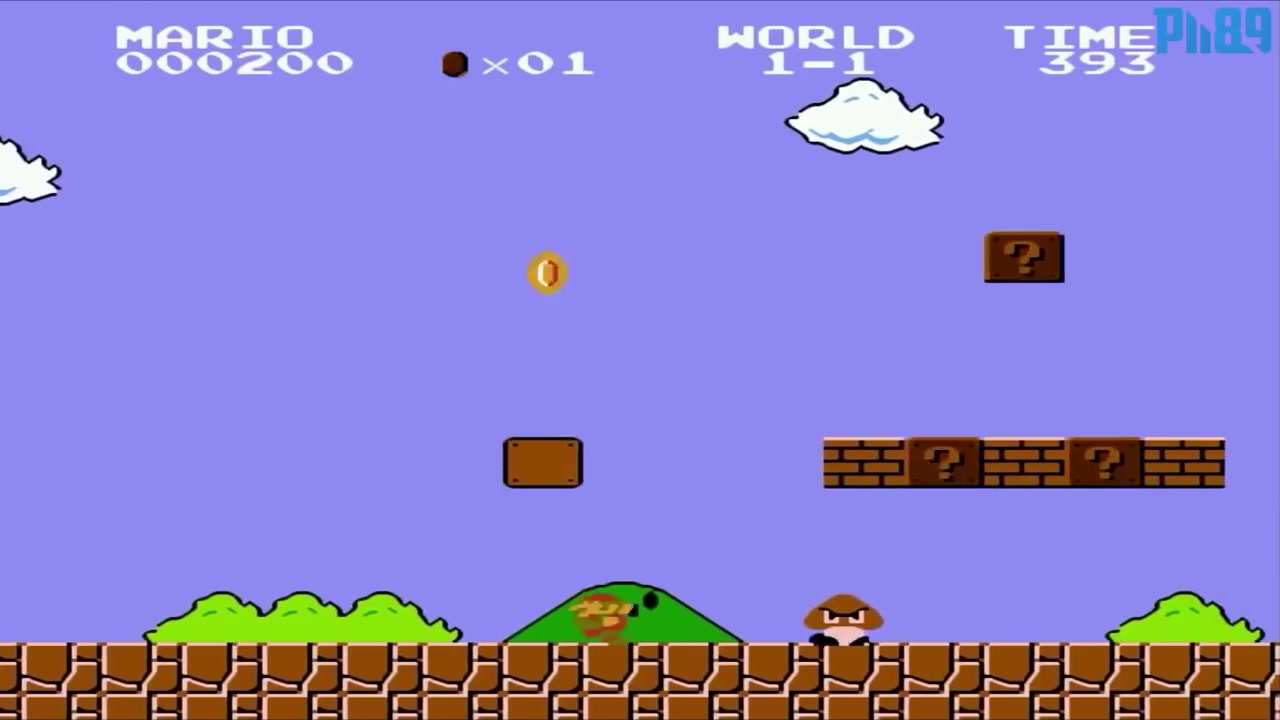mario: (559, 587, 639, 640)
